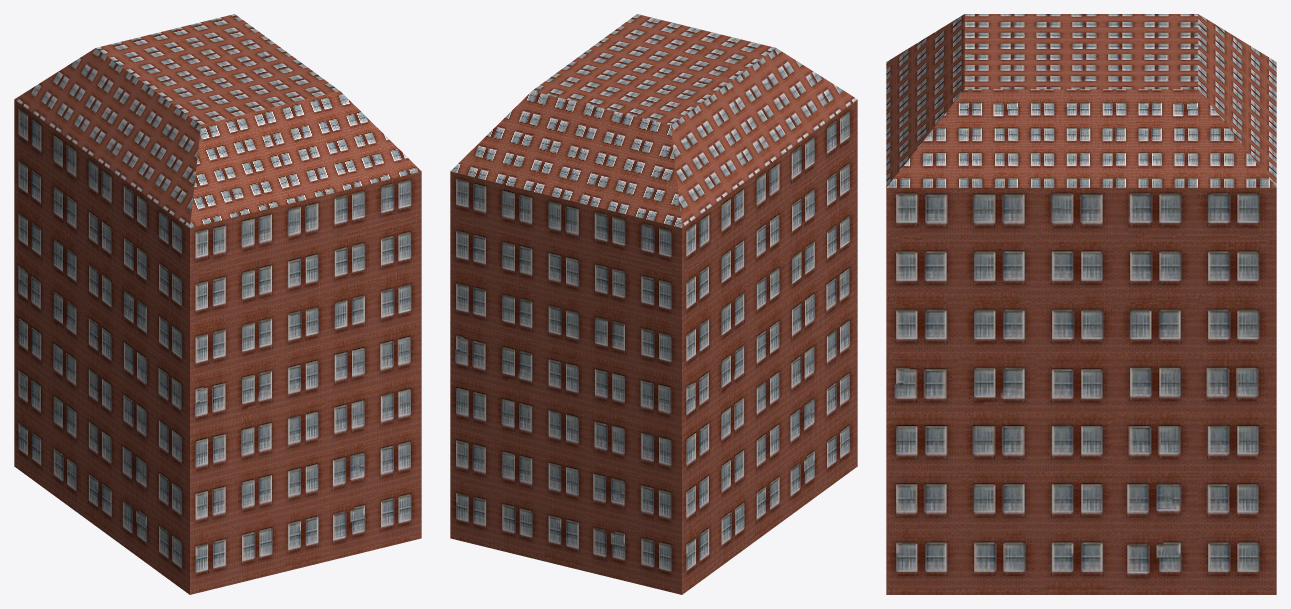
File: binasdmhıol98495.fbx
3 views of the same model, side by side, from view 1: azimuth 30°, elevation 25°; view 2: azimuth 150°, elevation 25°; view 3: azimuth 270°, elevation 25° (orthographic). The views are drawn at different scales.
Parts seen in each view (by area): view 1: Cube; view 2: Cube; view 3: Cube.
Part boxes in pixels (x1,y1,x2,y2): Cube: (14,14,421,594); Cube: (450,14,857,594); Cube: (886,14,1276,594).
Size of the model in its own units: 200 by 357 by 262.
1 material, 1 textured.
